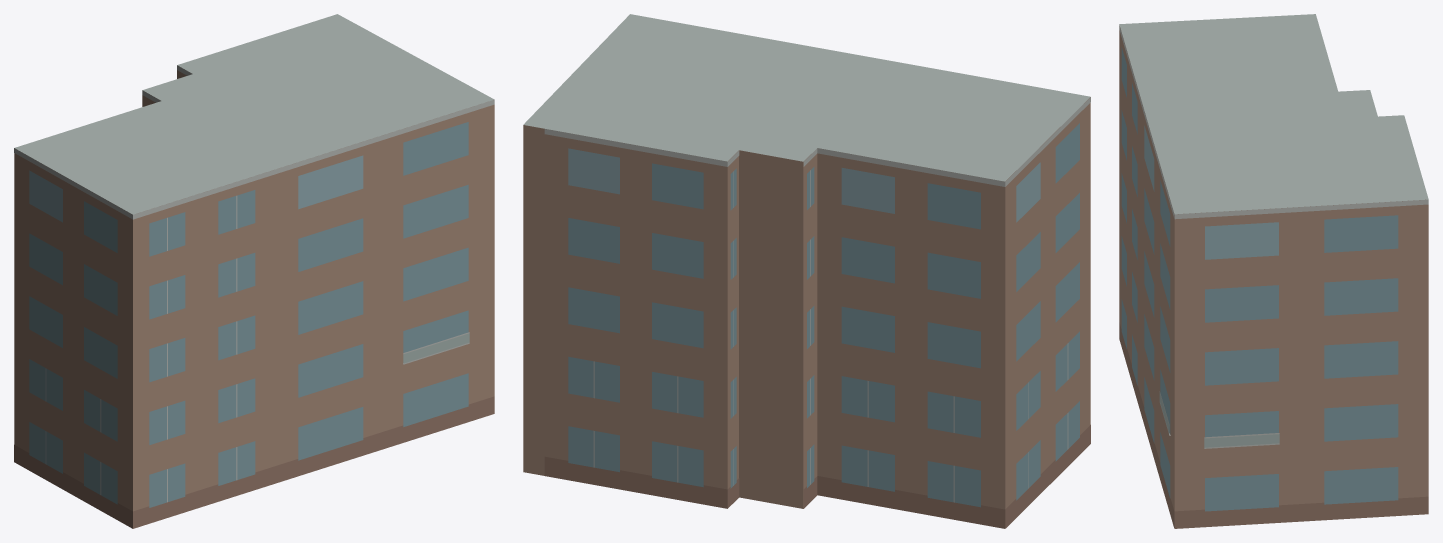
The model's file is survey-upis-32738265.glb.
3 views of the same model, side by side, from view 1: azimuth 30°, elevation 25°; view 2: azimuth 150°, elevation 25°; view 3: azimuth 270°, elevation 25° (orthographic). The views are drawn at different scales.
Visible parts, largest first — view 1: survey-upis-32738265.tmp; view 2: survey-upis-32738265.tmp; view 3: survey-upis-32738265.tmp.
Part boxes in pixels (x1,y1,x2,y2): survey-upis-32738265.tmp: [14, 14, 494, 528]; survey-upis-32738265.tmp: [523, 14, 1090, 528]; survey-upis-32738265.tmp: [1119, 14, 1428, 528].
Size of the model in its own units: 21.31 by 15.6 by 13.91.
